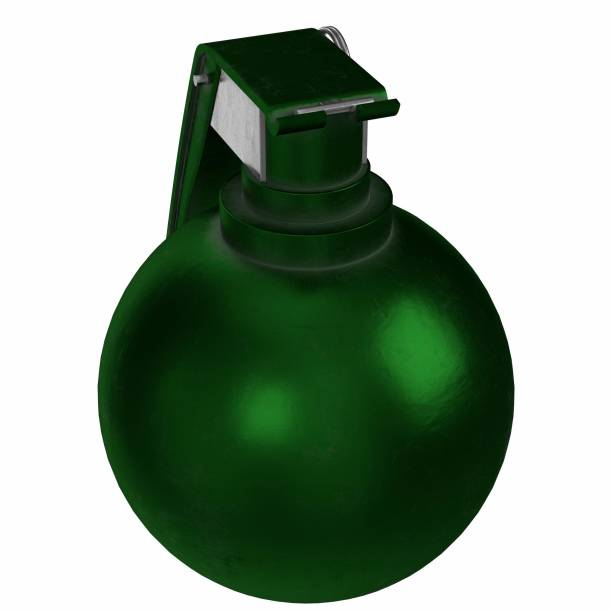e1: (96, 24, 514, 604)
